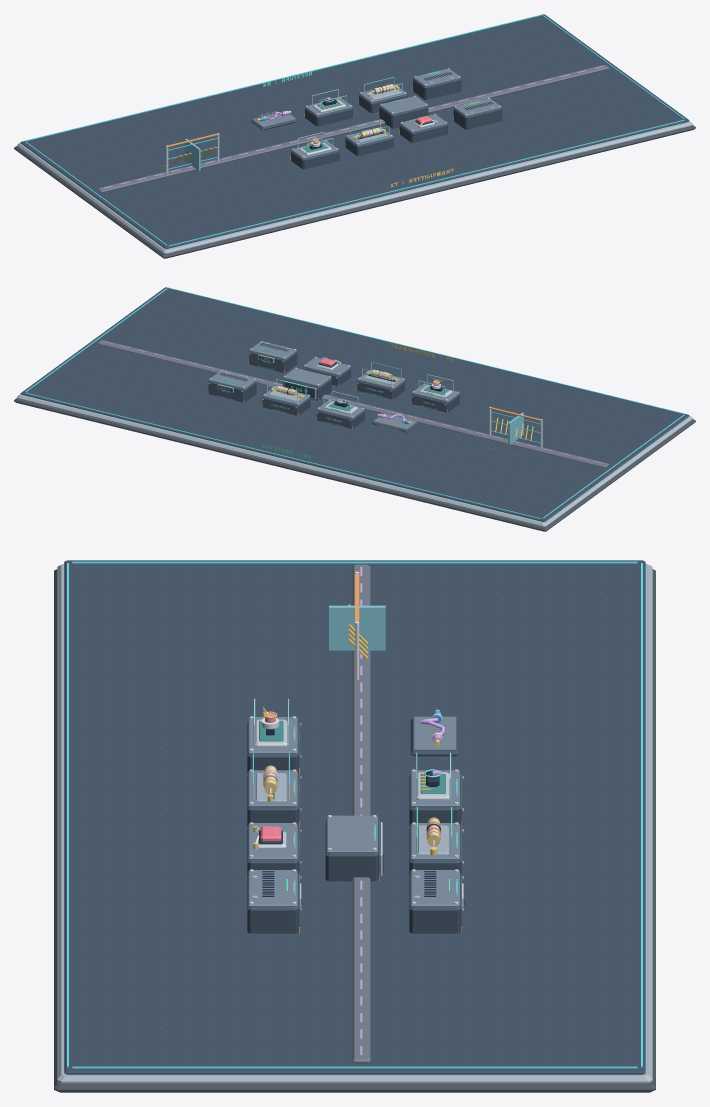
Rendered from Level39_Complete_ArtKit_Showcase.fbx.
3 views of the same model, one above another, from view 1: azimuth 30°, elevation 25°; view 2: azimuth 150°, elevation 25°; view 3: azimuth 270°, elevation 25° (orthographic). The views are drawn at different scales.
Parts seen in each view (by area): view 1: Model::00_Showcase_Base__L39_BOARD_Black_Perforated_Panel, Model::00_Showcase_Base__L39_BOARD_Titanium_Base, Model::00_Showcase_Base__L39_BOARD_Rubber_Base, Model::00_Showcase_Base__L39_BOARD_HighIsolationZone, Model::00_Showcase_Base__L39_BOARD_CyanTrimEnd_-5.43, Model::00_Showcase_Base__L39_BOARD_CyanTrimEnd_5.43, Model::05_RX_5V_Independent_Supply__L39_RX_POWER_Chassis, Model::01_TX_5V_Independent_Supply__L39_TX_POWER_Chassis, Model::10_VISUAL_Isolation_Logic_Monitor__L39_MONITOR_Chassi, Model::04_TX_Optocoupler_LED__L39_OPTO_LED_Chassis, Model::03_TX_470Ohm_LED_Limiter__L39_LIMIT_Chassis, Model::02_TX_SEND_Switch__L39_SEND_Chassis (+4 smaller); view 2: Model::00_Showcase_Base__L39_BOARD_Black_Perforated_Panel, Model::00_Showcase_Base__L39_BOARD_Titanium_Base, Model::00_Showcase_Base__L39_BOARD_Rubber_Base, Model::00_Showcase_Base__L39_BOARD_HighIsolationZone, Model::00_Showcase_Base__L39_BOARD_CyanTrimEnd_5.43, Model::00_Showcase_Base__L39_BOARD_CyanTrimEnd_-5.43, Model::10_VISUAL_Isolation_Logic_Monitor__L39_MONITOR_Top_Li, Model::01_TX_5V_Independent_Supply__L39_TX_POWER_Top_Lid, Model::05_RX_5V_Independent_Supply__L39_RX_POWER_Top_Lid, Model::05_RX_5V_Independent_Supply__L39_RX_POWER_Front_Conso, Model::01_TX_5V_Independent_Supply__L39_TX_POWER_Front_Conso; view 3: Model::00_Showcase_Base__L39_BOARD_Black_Perforated_Panel, Model::00_Showcase_Base__L39_BOARD_Titanium_Base, Model::00_Showcase_Base__L39_BOARD_Rubber_Base, Model::00_Showcase_Base__L39_BOARD_HighIsolationZone, Model::08_VISUAL_Optical_Isolation_Barrier__L39_ISO_GAP_Holo, Model::10_VISUAL_Isolation_Logic_Monitor__L39_MONITOR_Top_Li, Model::05_RX_5V_Independent_Supply__L39_RX_POWER_Top_Lid, Model::01_TX_5V_Independent_Supply__L39_TX_POWER_Top_Lid, Model::00_Showcase_Base__L39_BOARD_CyanTrimSide_-11.31, Model::00_Showcase_Base__L39_BOARD_CyanTrimSide_11.31, Model::10_VISUAL_Isolation_Logic_Monitor__L39_MONITOR_Chassi, Model::05_RX_5V_Independent_Supply__L39_RX_POWER_Chassis (+12 smaller).
Part boxes in pixels (x1=…): Model::00_Showcase_Base__L39_BOARD_Black_Perforated_Panel: x1=20, y1=14, x2=689, y2=248; Model::00_Showcase_Base__L39_BOARD_Titanium_Base: x1=17, y1=121, x2=692, y2=254; Model::00_Showcase_Base__L39_BOARD_Rubber_Base: x1=14, y1=125, x2=695, y2=258; Model::00_Showcase_Base__L39_BOARD_HighIsolationZone: x1=97, y1=65, x2=609, y2=192; Model::00_Showcase_Base__L39_BOARD_CyanTrimEnd_-5.43: x1=25, y1=14, x2=541, y2=141; Model::00_Showcase_Base__L39_BOARD_CyanTrimEnd_5.43: x1=168, y1=120, x2=684, y2=246; Model::05_RX_5V_Independent_Supply__L39_RX_POWER_Chassis: x1=413, y1=78, x2=461, y2=99; Model::01_TX_5V_Independent_Supply__L39_TX_POWER_Chassis: x1=453, y1=108, x2=501, y2=129; Model::10_VISUAL_Isolation_Logic_Monitor__L39_MONITOR_Chassi: x1=379, y1=106, x2=428, y2=128; Model::04_TX_Optocoupler_LED__L39_OPTO_LED_Chassis: x1=291, y1=150, x2=339, y2=169; Model::03_TX_470Ohm_LED_Limiter__L39_LIMIT_Chassis: x1=345, y1=137, x2=393, y2=155; Model::02_TX_SEND_Switch__L39_SEND_Chassis: x1=399, y1=124, x2=447, y2=142; Model::00_Showcase_Base__L39_BOARD_Black_Perforated_Panel: x1=20, y1=287, x2=689, y2=521; Model::00_Showcase_Base__L39_BOARD_Titanium_Base: x1=17, y1=394, x2=692, y2=527; Model::00_Showcase_Base__L39_BOARD_Rubber_Base: x1=14, y1=398, x2=695, y2=531; Model::00_Showcase_Base__L39_BOARD_HighIsolationZone: x1=97, y1=340, x2=609, y2=467; Model::00_Showcase_Base__L39_BOARD_CyanTrimEnd_5.43: x1=168, y1=287, x2=684, y2=414; Model::00_Showcase_Base__L39_BOARD_CyanTrimEnd_-5.43: x1=25, y1=393, x2=541, y2=519; Model::10_VISUAL_Isolation_Logic_Monitor__L39_MONITOR_Top_Li: x1=283, y1=368, x2=331, y2=386; Model::01_TX_5V_Independent_Supply__L39_TX_POWER_Top_Lid: x1=249, y1=341, x2=296, y2=359; Model::05_RX_5V_Independent_Supply__L39_RX_POWER_Top_Lid: x1=209, y1=371, x2=256, y2=388; Model::05_RX_5V_Independent_Supply__L39_RX_POWER_Front_Conso: x1=208, y1=382, x2=243, y2=402; Model::01_TX_5V_Independent_Supply__L39_TX_POWER_Front_Conso: x1=249, y1=352, x2=284, y2=372; Model::00_Showcase_Base__L39_BOARD_Black_Perforated_Panel: x1=64, y1=560, x2=645, y2=1074; Model::00_Showcase_Base__L39_BOARD_Titanium_Base: x1=57, y1=564, x2=652, y2=1084; Model::00_Showcase_Base__L39_BOARD_Rubber_Base: x1=54, y1=569, x2=655, y2=1092; Model::00_Showcase_Base__L39_BOARD_HighIsolationZone: x1=352, y1=564, x2=370, y2=1063; Model::08_VISUAL_Optical_Isolation_Barrier__L39_ISO_GAP_Holo: x1=329, y1=605, x2=385, y2=650; Model::10_VISUAL_Isolation_Logic_Monitor__L39_MONITOR_Top_Li: x1=326, y1=815, x2=377, y2=852; Model::05_RX_5V_Independent_Supply__L39_RX_POWER_Top_Lid: x1=410, y1=870, x2=459, y2=906; Model::01_TX_5V_Independent_Supply__L39_TX_POWER_Top_Lid: x1=248, y1=870, x2=297, y2=906; Model::00_Showcase_Base__L39_BOARD_CyanTrimSide_-11.31: x1=72, y1=561, x2=637, y2=563; Model::00_Showcase_Base__L39_BOARD_CyanTrimSide_11.31: x1=72, y1=1066, x2=637, y2=1068; Model::10_VISUAL_Isolation_Logic_Monitor__L39_MONITOR_Chassi: x1=325, y1=821, x2=378, y2=881; Model::05_RX_5V_Independent_Supply__L39_RX_POWER_Chassis: x1=409, y1=875, x2=460, y2=933.
Bounding box in the file's own units: 23.3 × 1.64 × 11.4.
